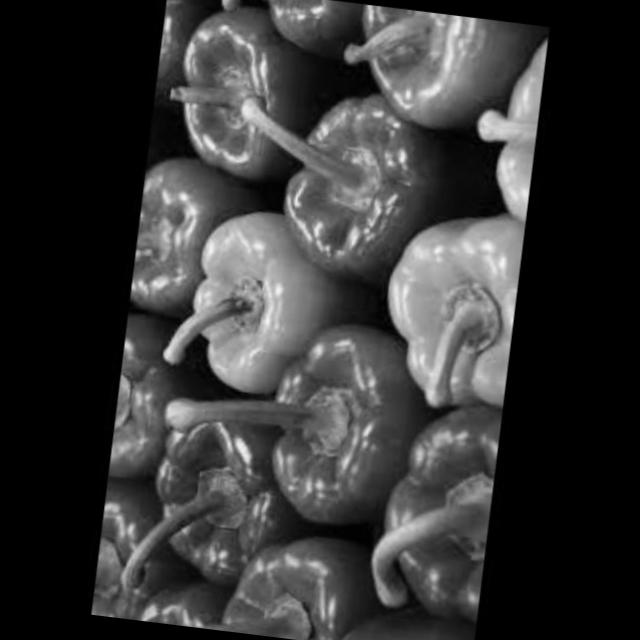ot chuong: (162, 198, 395, 410), (264, 82, 483, 286), (247, 306, 437, 538), (150, 0, 334, 193), (130, 393, 298, 595), (358, 394, 502, 628), (366, 208, 524, 418), (332, 1, 549, 132), (124, 153, 258, 347), (200, 512, 382, 640), (90, 464, 207, 626), (448, 34, 546, 225), (105, 310, 198, 498), (328, 583, 477, 640), (122, 564, 231, 630)
